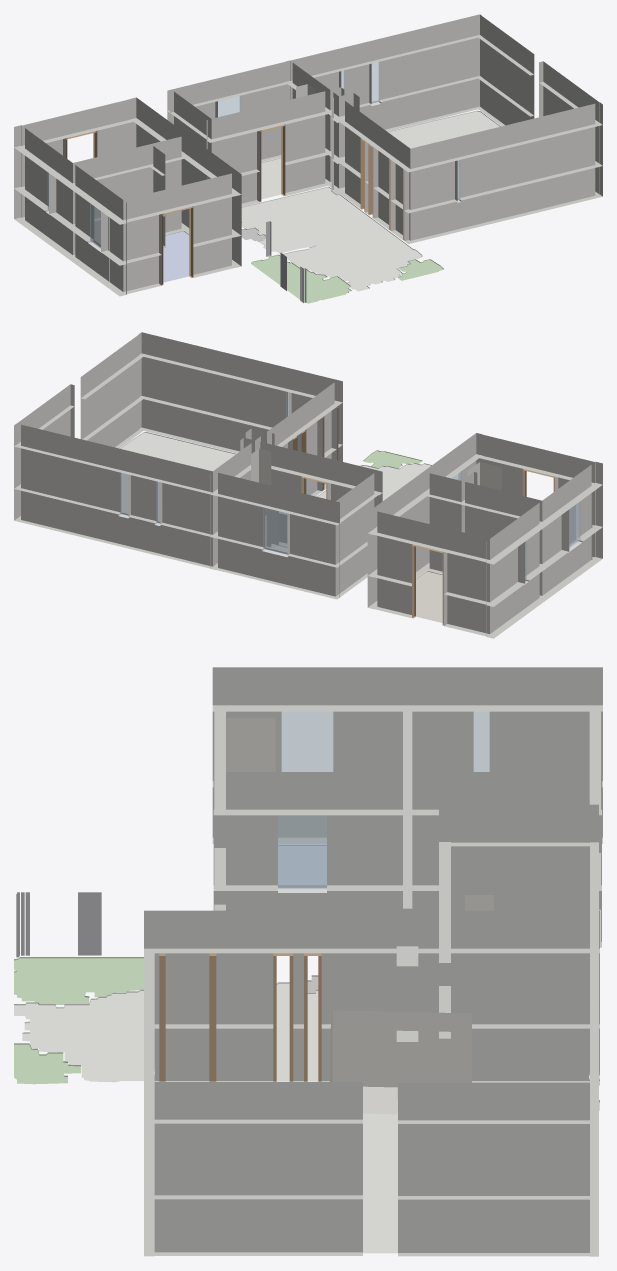
3 views of the same model, one above another, from view 1: azimuth 30°, elevation 25°; view 2: azimuth 150°, elevation 25°; view 3: azimuth 270°, elevation 25° (orthographic). The views are drawn at different scales.
Parts seen in each view (by area): view 1: walls, floor_7_Undefined, floor_6_Undefined, floor_3_Outdoor, floor_2_Bed_Room, floor_1_Undefined, railings, floor_4_Outdoor, door_1, door_4, window_0, door_12 (+1 smaller); view 2: walls, floor_6_Undefined, floor_0_Storage, floor_7_Undefined, window_5, furniture_5_chimney, furniture_1_closet, floor_4_Outdoor, window_0, door_2; view 3: walls, furniture_4_fireplace, floor_7_Undefined, floor_3_Outdoor, floor_6_Undefined, window_3, window_0, furniture_0_closet, railings, floor_4_Outdoor, floor_2_Bed_Room, door_12 (+4 smaller).
Boxes of the visible parts, <box> form: walls: <box>14,14,602,296</box>; floor_7_Undefined: <box>241,186,422,291</box>; floor_6_Undefined: <box>387,110,500,148</box>; floor_3_Outdoor: <box>251,254,351,303</box>; floor_2_Bed_Room: <box>163,230,189,282</box>; floor_1_Undefined: <box>261,158,281,199</box>; railings: <box>266,221,306,303</box>; floor_4_Outdoor: <box>397,259,443,280</box>; door_1: <box>162,206,193,285</box>; door_4: <box>260,124,285,201</box>; window_0: <box>90,203,104,248</box>; door_12: <box>368,143,373,217</box>; walls: <box>14,332,602,638</box>; floor_6_Undefined: <box>120,432,235,521</box>; floor_0_Storage: <box>416,571,442,622</box>; floor_7_Undefined: <box>317,463,457,500</box>; window_5: <box>263,506,288,554</box>; furniture_5_chimney: <box>251,448,271,515</box>; furniture_1_closet: <box>467,462,501,490</box>; floor_4_Outdoor: <box>363,450,422,468</box>; window_0: <box>565,502,580,550</box>; door_2: <box>412,544,443,625</box>; walls: <box>144,667,602,1256</box>; furniture_4_fireplace: <box>329,1010,471,1114</box>; floor_7_Undefined: <box>14,982,318,1082</box>; floor_3_Outdoor: <box>14,957,143,1004</box>; floor_6_Undefined: <box>363,1113,397,1253</box>; window_3: <box>278,815,326,888</box>; window_0: <box>281,708,333,771</box>; furniture_0_closet: <box>226,717,275,771</box>; railings: <box>16,892,228,957</box>; floor_4_Outdoor: <box>14,1043,80,1084</box>; floor_2_Bed_Room: <box>278,845,326,884</box>; door_12: <box>273,953,293,1081</box>.
Size of the model in its own units: 14.25 by 2.72 by 8.47.
